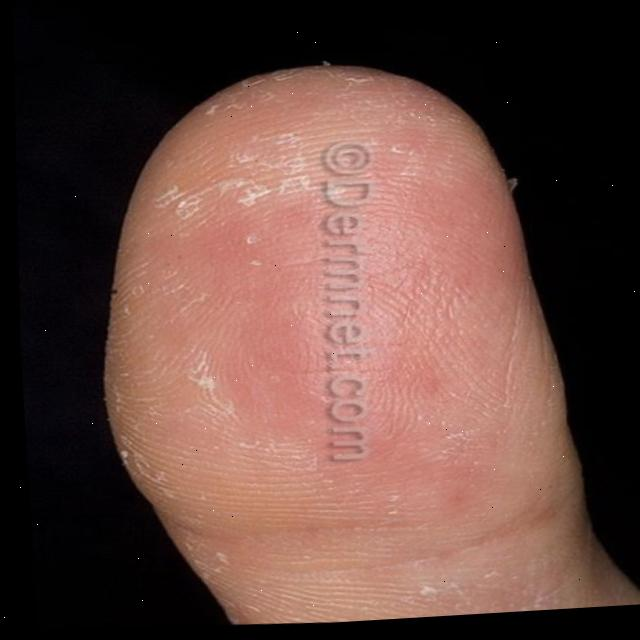Eczema: (79, 56, 554, 506)
